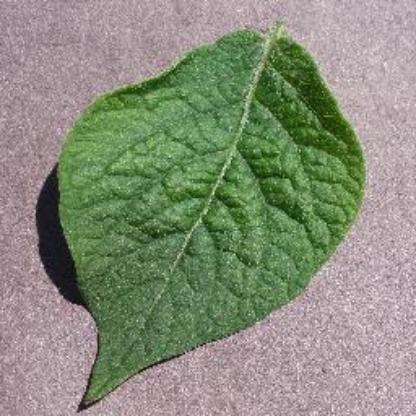Healthy-plant: (43, 11, 378, 411)
